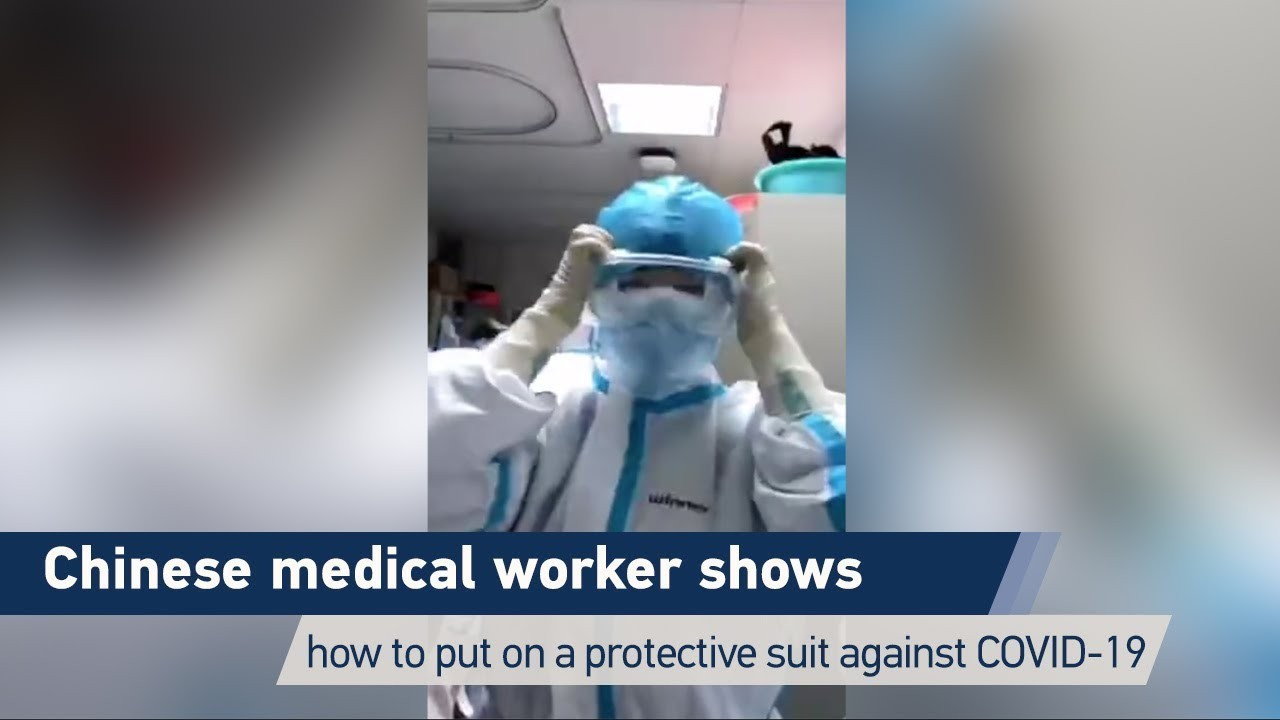Coverall: (425, 345, 848, 720)
Gloves: (482, 220, 614, 392), (721, 242, 832, 433)
Goggles: (586, 245, 741, 336)
with_mask: (602, 276, 718, 398)
